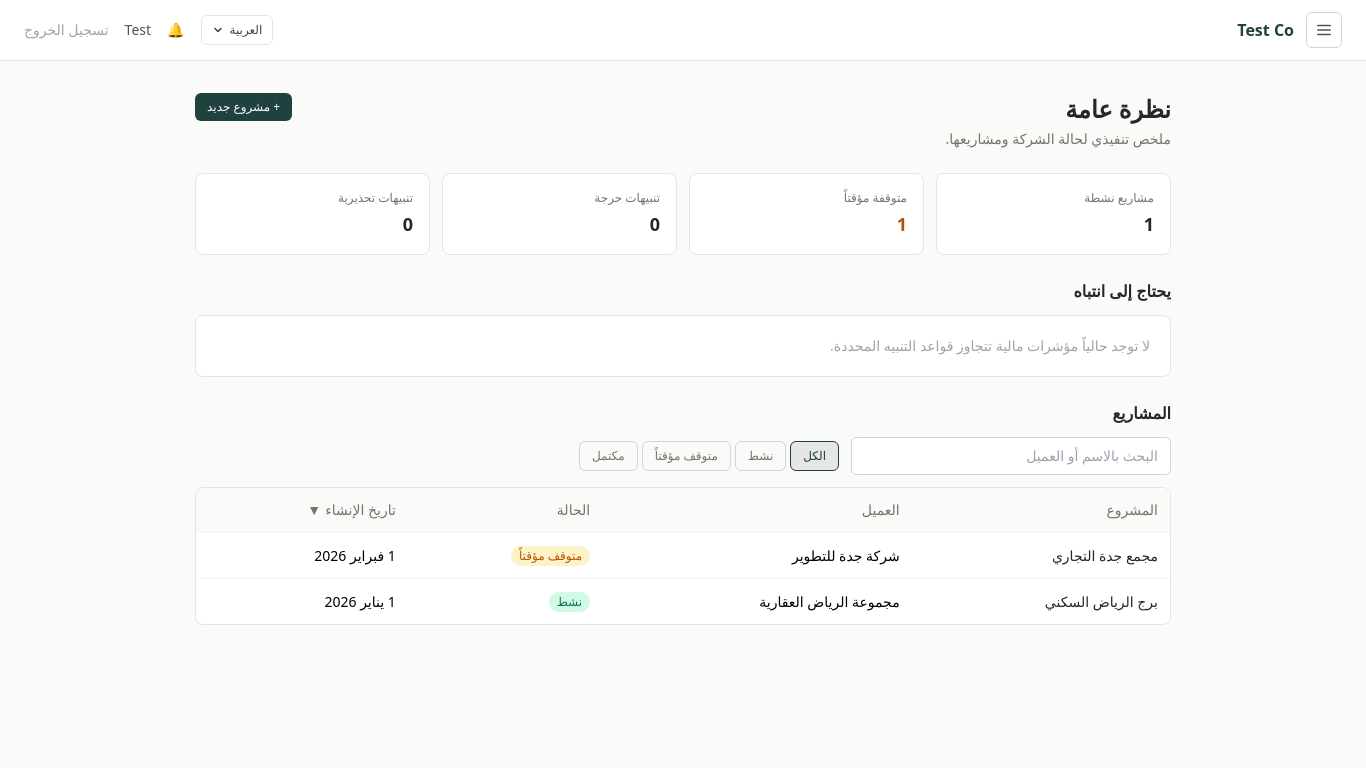
<Dashboard/> — Executive Command Center (Phase F/F.1) › MIDAD Phase F.1: the status filter narrows the project table to the selected status only
Expected: the link "برج الرياض السكني" is shown, [1045, 592, 1158, 610]
Click the button "متوقف مؤقتاً": point(686, 456) [642, 441, 731, 471]
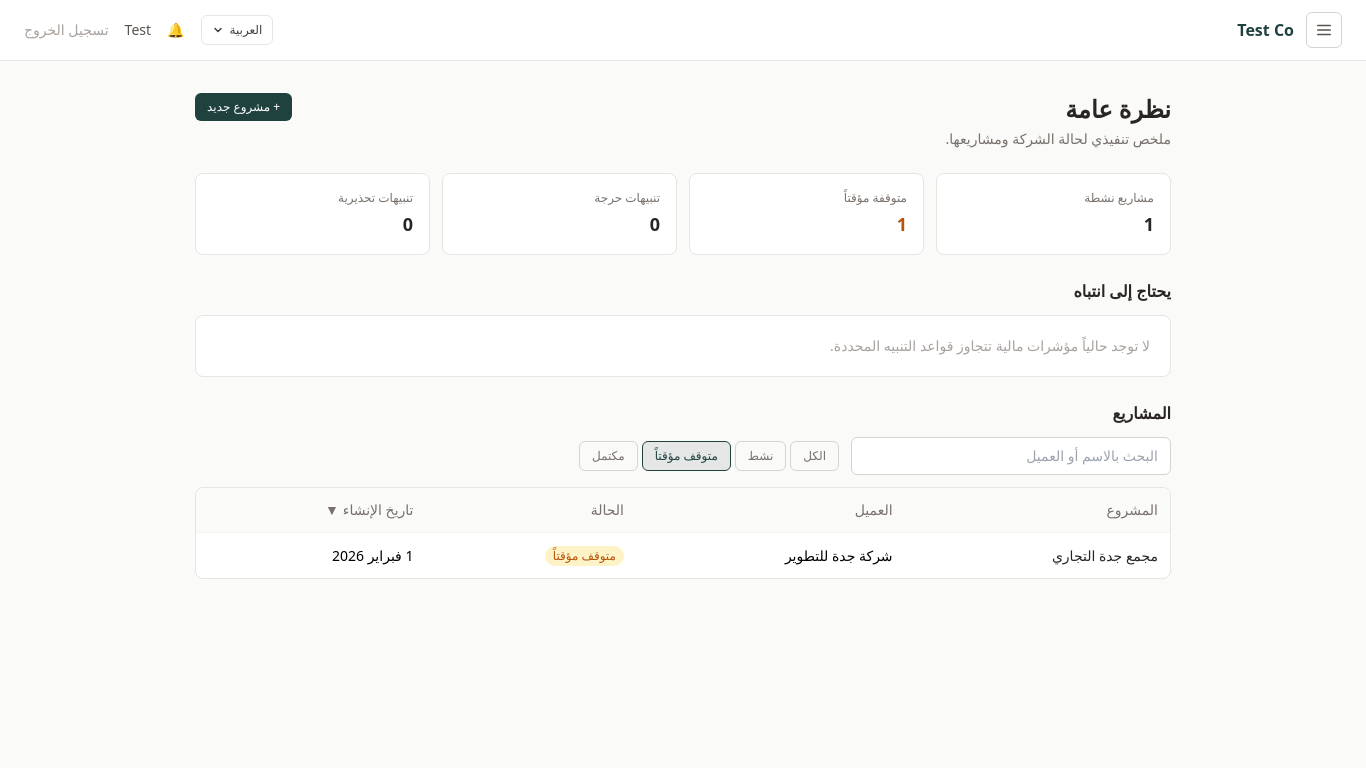
Expected: the link "مجمع جدة التجاري" is shown, [1052, 546, 1158, 564]
Result: the link "برج الرياض السكني" is gone
